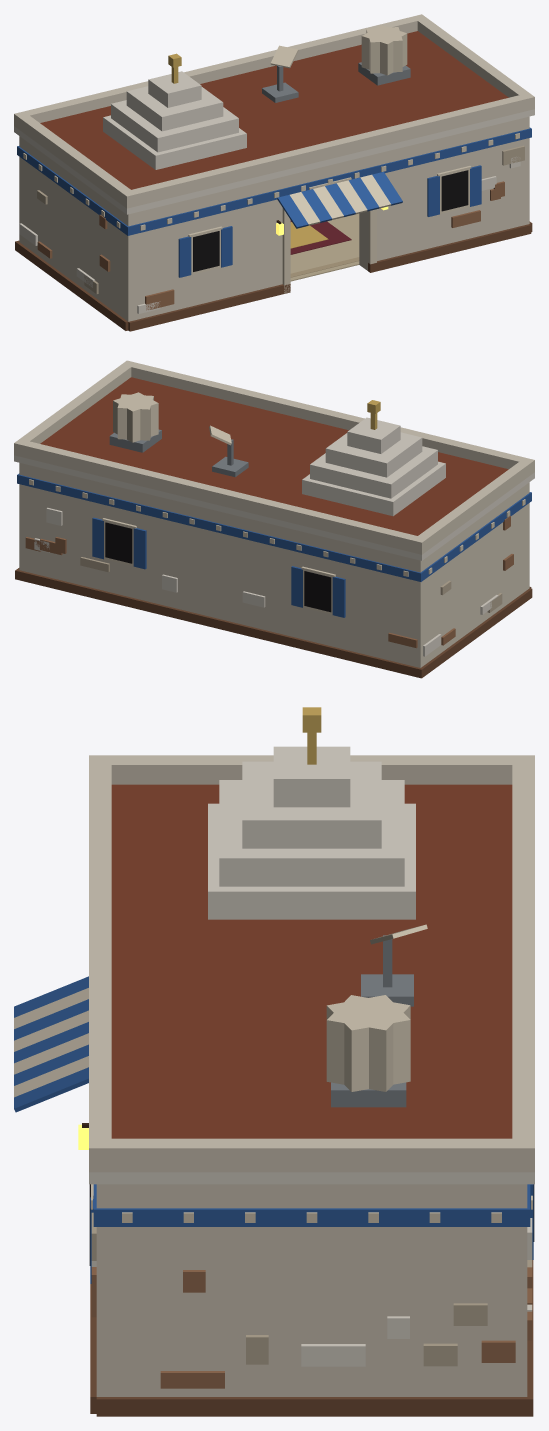
File: dd_half_b.glb
3 renders of one model, top to bottom at view 1: azimuth 30°, elevation 25°; view 2: azimuth 150°, elevation 25°; view 3: azimuth 270°, elevation 25°, orthographic. The views are drawn at different scales.
Parts seen in each view (by area): view 1: DUBG_dd_half_b, DUBG_dd_half_b_roof; view 2: DUBG_dd_half_b, DUBG_dd_half_b_roof; view 3: DUBG_dd_half_b_roof, DUBG_dd_half_b.
Boxes of the visible parts, left/top/right/bottom form: DUBG_dd_half_b: left=15, top=116, right=532, bottom=331; DUBG_dd_half_b_roof: left=14, top=14, right=534, bottom=214; DUBG_dd_half_b: left=15, top=462, right=532, bottom=678; DUBG_dd_half_b_roof: left=14, top=360, right=534, bottom=560; DUBG_dd_half_b_roof: left=89, top=707, right=534, bottom=1184; DUBG_dd_half_b: left=14, top=976, right=534, bottom=1416.
Bounding box in the file's own units: 24.6 × 12.07 × 13.78.
